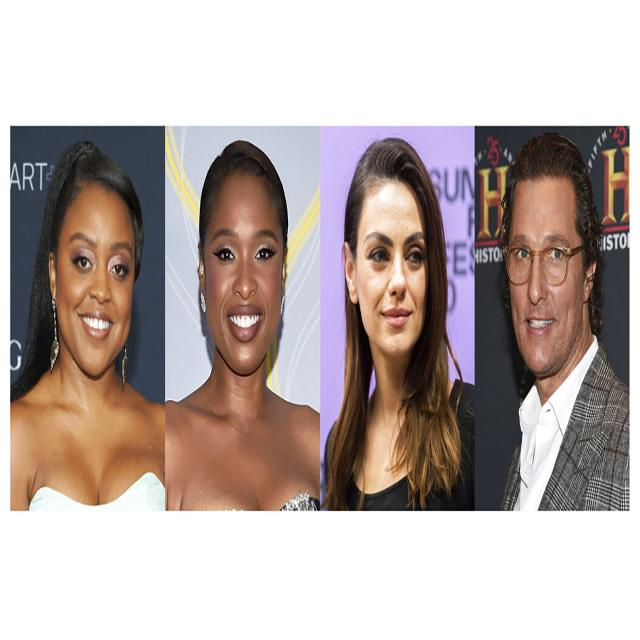adult: (165, 141, 321, 514), (320, 135, 474, 510), (12, 141, 164, 512), (496, 135, 630, 512)
